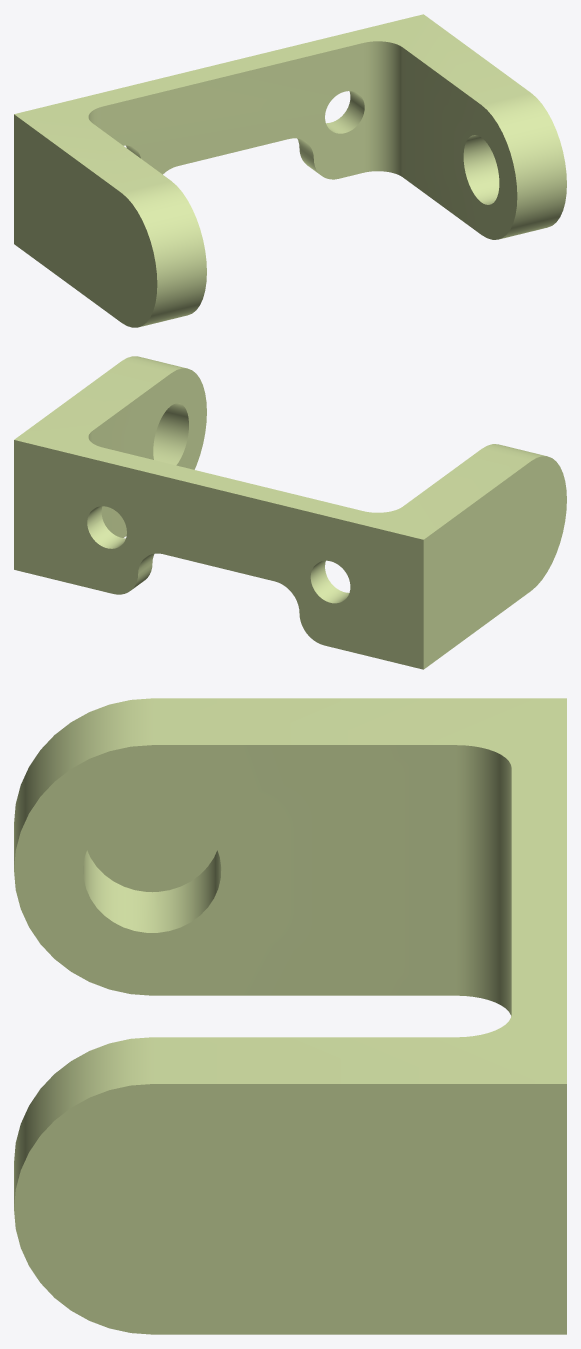
Rendered from MarkerHolder.obj.
3 views of the same model, one above another, from view 1: azimuth 30°, elevation 25°; view 2: azimuth 150°, elevation 25°; view 3: azimuth 270°, elevation 25° (orthographic). The views are drawn at different scales.
Visible parts, largest first — view 1: MarkerHolder; view 2: MarkerHolder; view 3: MarkerHolder.
Part boxes in pixels (left/top/right/bottom): MarkerHolder: left=14, top=14, right=566, bottom=327; MarkerHolder: left=14, top=356, right=566, bottom=669; MarkerHolder: left=14, top=698, right=566, bottom=1334.
Bounding box in the file's own units: 33 × 10 × 20.
